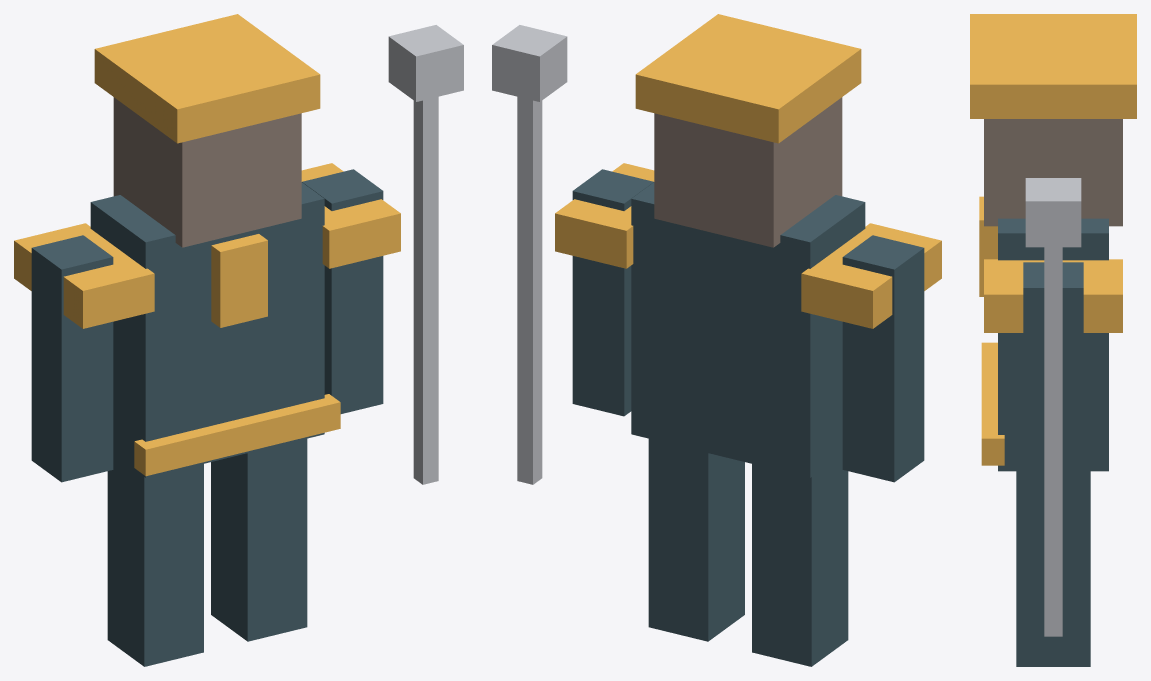
Rendered from 17_yara_voxmere_sentinel_from_signal.glb.
3 views of the same model, side by side, from view 1: azimuth 30°, elevation 25°; view 2: azimuth 150°, elevation 25°; view 3: azimuth 270°, elevation 25° (orthographic).
Parts seen in each view (by area): view 1: Yara Voxmere, Sentinel from Signal; view 2: Yara Voxmere, Sentinel from Signal; view 3: Yara Voxmere, Sentinel from Signal.
Part boxes in pixels (x1,y1,x2,y2): Yara Voxmere, Sentinel from Signal: (14, 14, 463, 666); Yara Voxmere, Sentinel from Signal: (492, 14, 941, 666); Yara Voxmere, Sentinel from Signal: (970, 14, 1136, 666).
Size of the model in its own units: 1.09 by 1.47 by 0.3861.
